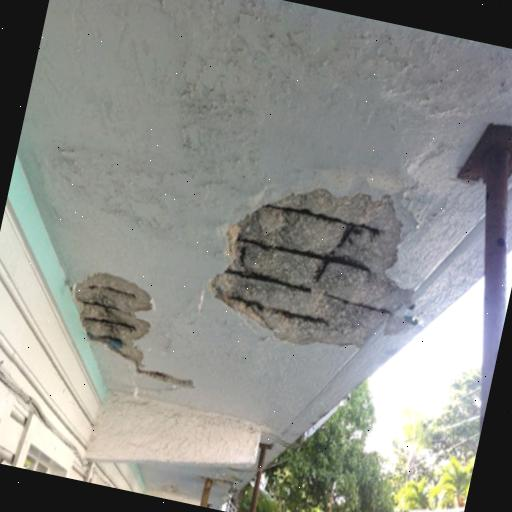spalling: (202, 190, 419, 352)
